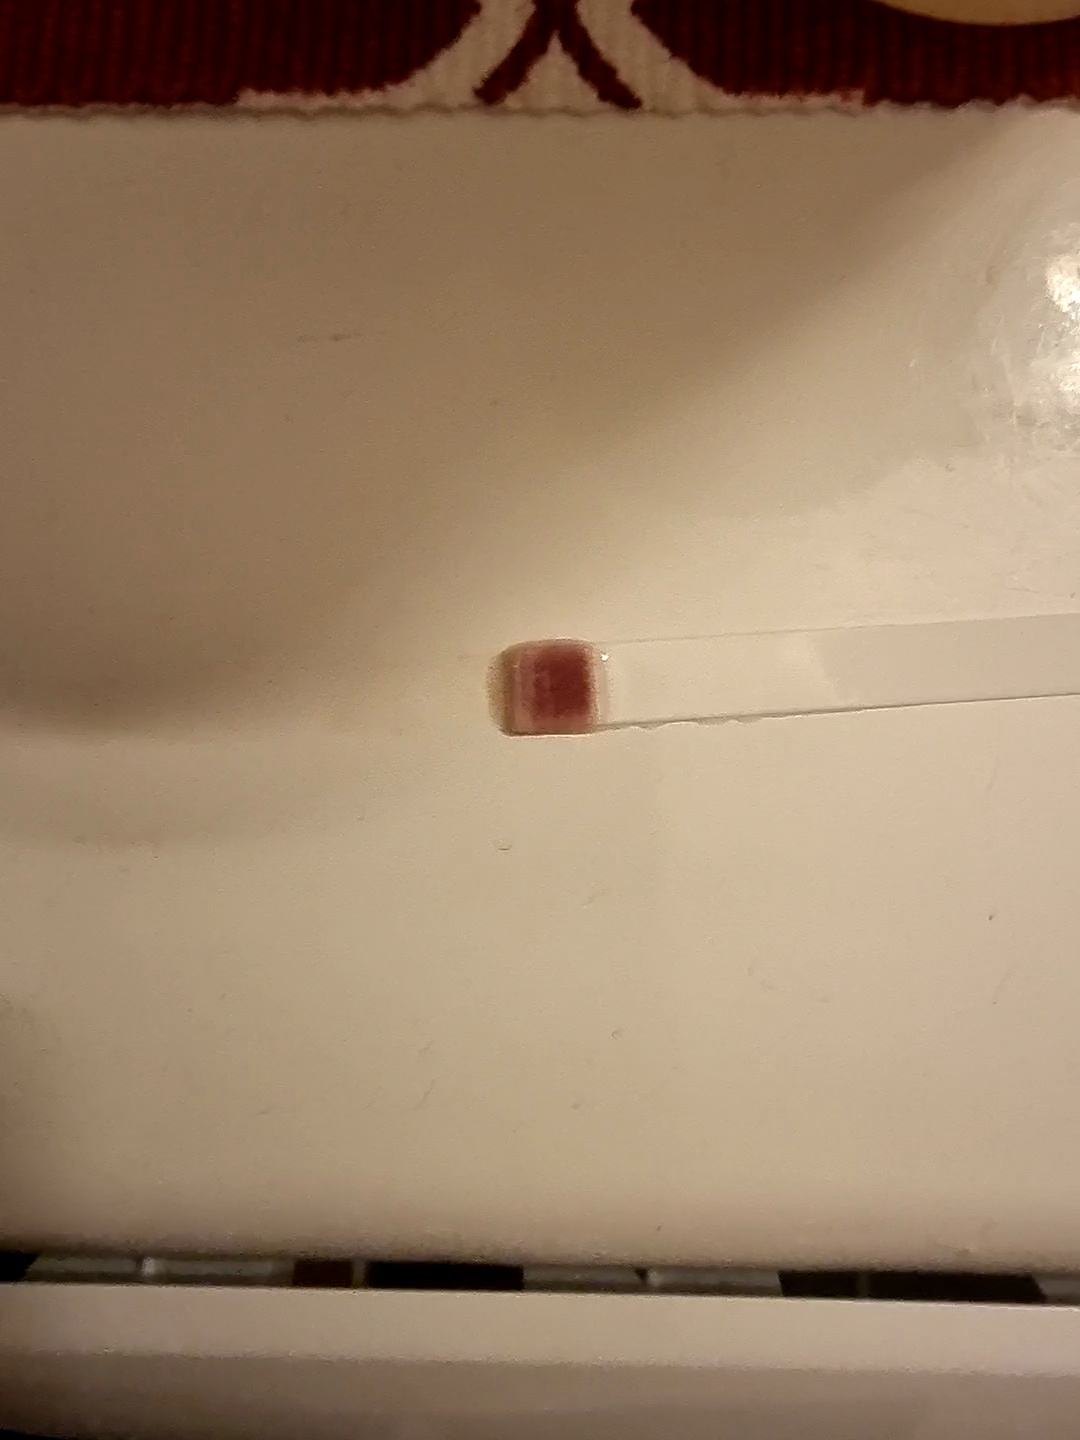keto-tip: (483, 634, 608, 743)
